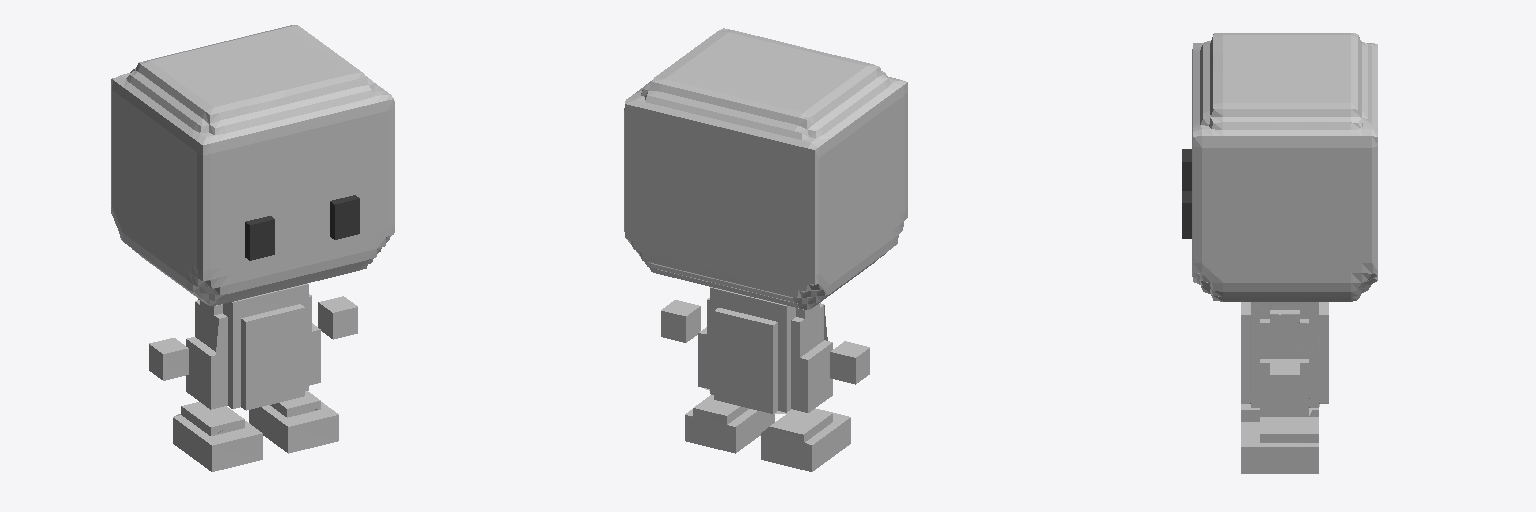
The model's file is chara.obj.
3 renders of one model, left to right at view 1: azimuth 30°, elevation 25°; view 2: azimuth 150°, elevation 25°; view 3: azimuth 270°, elevation 25°, orthographic.
Parts seen in each view (by area): view 1: 立方体.20211, 立方体.14063, 立方体.13578, 立方体.14329, 立方体.13922, 立方体.15422, eye_R.001, eye_L.002; view 2: 立方体.20211, 立方体.14063, 立方体.13578, 立方体.14329, 立方体.13922, 立方体.15422; view 3: 立方体.20211, 立方体.14063, 立方体.14329, 立方体.15422.
Boxes of the visible parts, x1=… form: 立方体.20211: x1=111, y1=25, x2=394, y2=305; 立方体.14063: x1=186, y1=283, x2=320, y2=410; 立方体.13578: x1=173, y1=402, x2=262, y2=471; 立方体.14329: x1=249, y1=391, x2=338, y2=453; 立方体.13922: x1=149, y1=338, x2=188, y2=380; 立方体.15422: x1=318, y1=296, x2=357, y2=339; eye_R.001: x1=245, y1=216, x2=274, y2=260; eye_L.002: x1=330, y1=195, x2=359, y2=239; 立方体.20211: x1=624, y1=28, x2=907, y2=309; 立方体.14063: x1=698, y1=287, x2=832, y2=413; 立方体.13578: x1=761, y1=408, x2=850, y2=471; 立方体.14329: x1=685, y1=395, x2=774, y2=453; 立方体.13922: x1=830, y1=341, x2=869, y2=384; 立方体.15422: x1=661, y1=300, x2=700, y2=342; 立方体.20211: x1=1192, y1=33, x2=1377, y2=301; 立方体.14063: x1=1241, y1=302, x2=1328, y2=415; 立方体.14329: x1=1241, y1=417, x2=1318, y2=473; 立方体.15422: x1=1270, y1=362, x2=1299, y2=400.
Size of the model in its own units: 23 by 42 by 20.